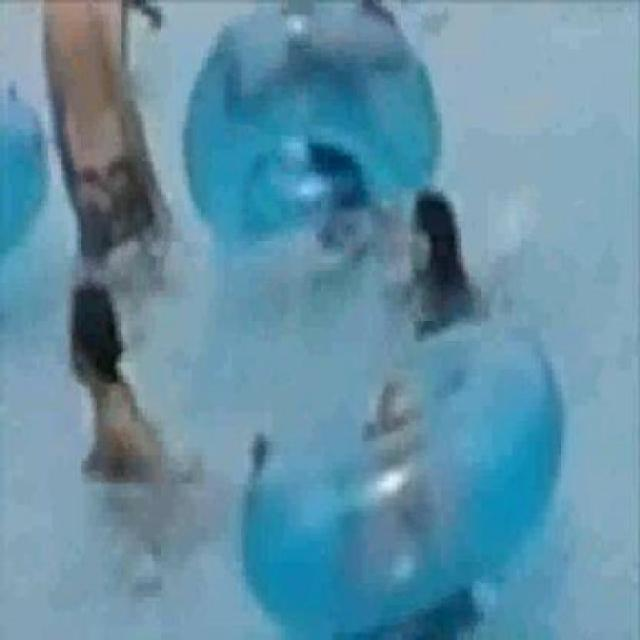drowning: (47, 288, 187, 506), (390, 184, 472, 344)
